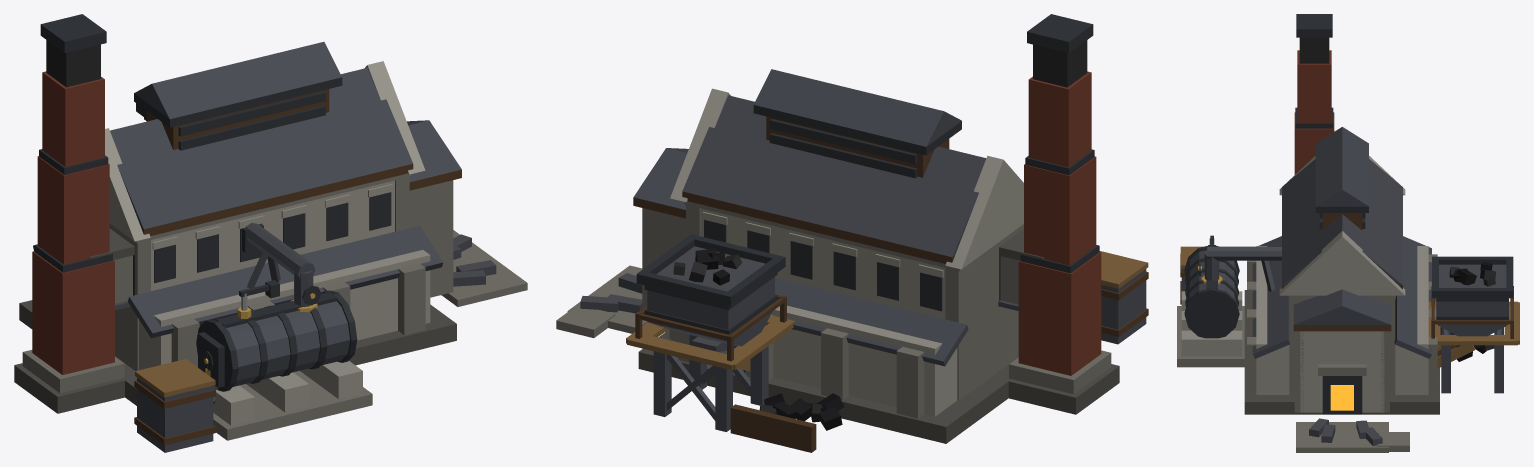
Rendered from foundry_hall.glb.
3 renders of one model, left to right at view 1: azimuth 30°, elevation 25°; view 2: azimuth 150°, elevation 25°; view 3: azimuth 270°, elevation 25°, orthographic. The views are drawn at different scales.
Visible parts, largest first — view 1: Cube.042, Cube.056, Cube.006, Cube.053, Cube.005, Cube.057, Cube.001, Cylinder, Cube.059, Cube.069, Cube.143, Cube (+41 smaller); view 2: Cube.042, Cube.023, Cube.056, Cube.053, Cube.002, Cube.057, Cube, Cube.001, Cube.024, Cube.059, Cube.043, Cube.097 (+41 smaller); view 3: Cube.042, Cube.142, Cube.044, Cube.053, Cube.146, Cube.023, Cube, Cube.005, Cube.024, Cube.097, Cylinder.005, Cube.006 (+31 smaller).
Boxes of the visible parts, box(x1,y1,x2,y2) form: Cube.042: box(110, 68, 412, 229); Cube.056: box(32, 251, 114, 374); Cube.006: box(127, 225, 443, 338); Cube.053: box(134, 42, 341, 119); Cube.005: box(139, 250, 430, 370); Cube.057: box(37, 156, 109, 264); Cube.001: box(151, 180, 394, 291); Cylinder: box(226, 301, 349, 386); Cube.059: box(42, 71, 104, 166); Cube.069: box(213, 371, 372, 440); Cube.143: box(409, 180, 453, 297); Cube: box(19, 300, 456, 405); Cube.042: box(682, 95, 986, 256); Cube.023: box(665, 305, 957, 416); Cube.056: box(1018, 252, 1101, 375); Cube.053: box(753, 69, 961, 146); Cube.002: box(945, 224, 1023, 400); Cube.057: box(1024, 156, 1096, 265); Cube: box(638, 332, 1018, 443); Cube.001: box(700, 208, 945, 318); Cube.024: box(775, 278, 968, 366); Cube.059: box(1028, 71, 1091, 167); Cube.043: box(945, 155, 1023, 269); Cube.097: box(647, 246, 774, 341); Cube.042: box(1282, 159, 1402, 285); Cube.142: box(1300, 331, 1384, 412); Cube.044: box(1279, 231, 1405, 295); Cube.053: box(1315, 127, 1368, 206); Cube.146: box(1293, 289, 1391, 324); Cube.023: box(1395, 246, 1428, 394); Cube: box(1244, 290, 1439, 414); Cube.005: box(1256, 246, 1289, 394); Cube.024: box(1394, 236, 1431, 358); Cube.097: box(1437, 264, 1507, 325); Cylinder.005: box(1184, 288, 1239, 338); Cube.006: box(1252, 236, 1289, 358).
Bounding box in the file's own units: 178 × 129 × 147.
